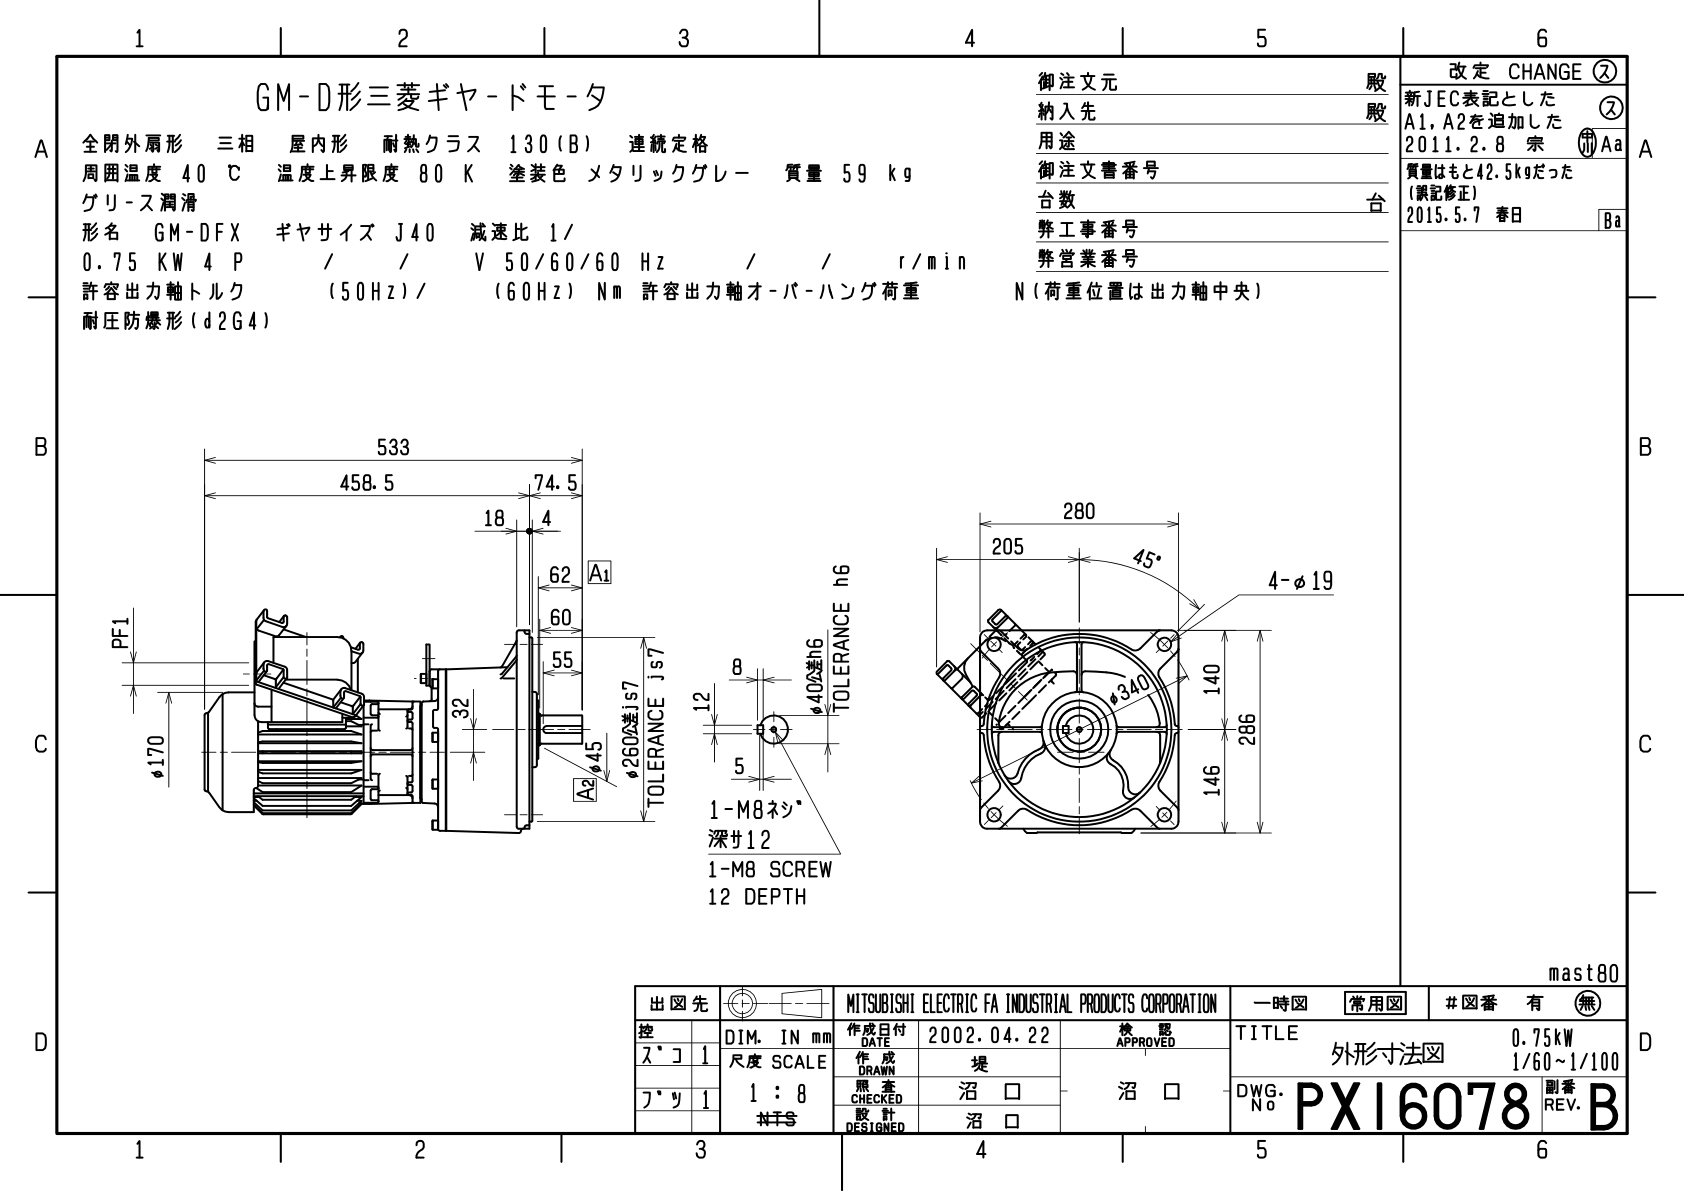GM_SP_屋内＿三相_フランジ: (85, 421, 1361, 945)
